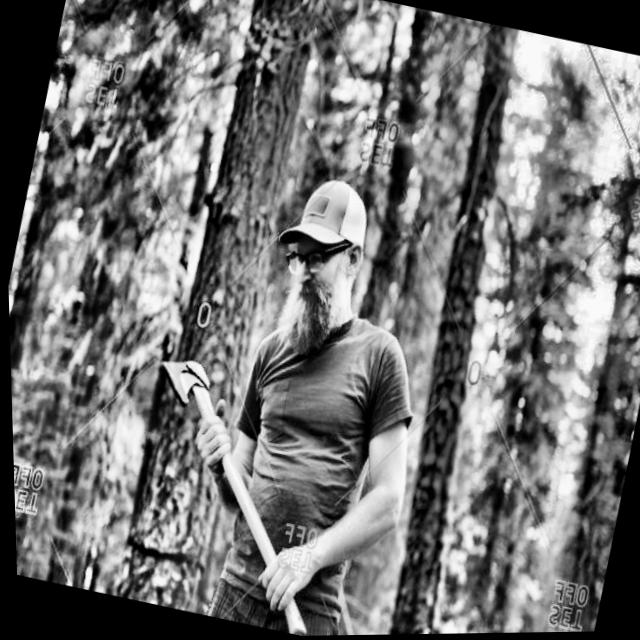kapak: (144, 351, 326, 633)
